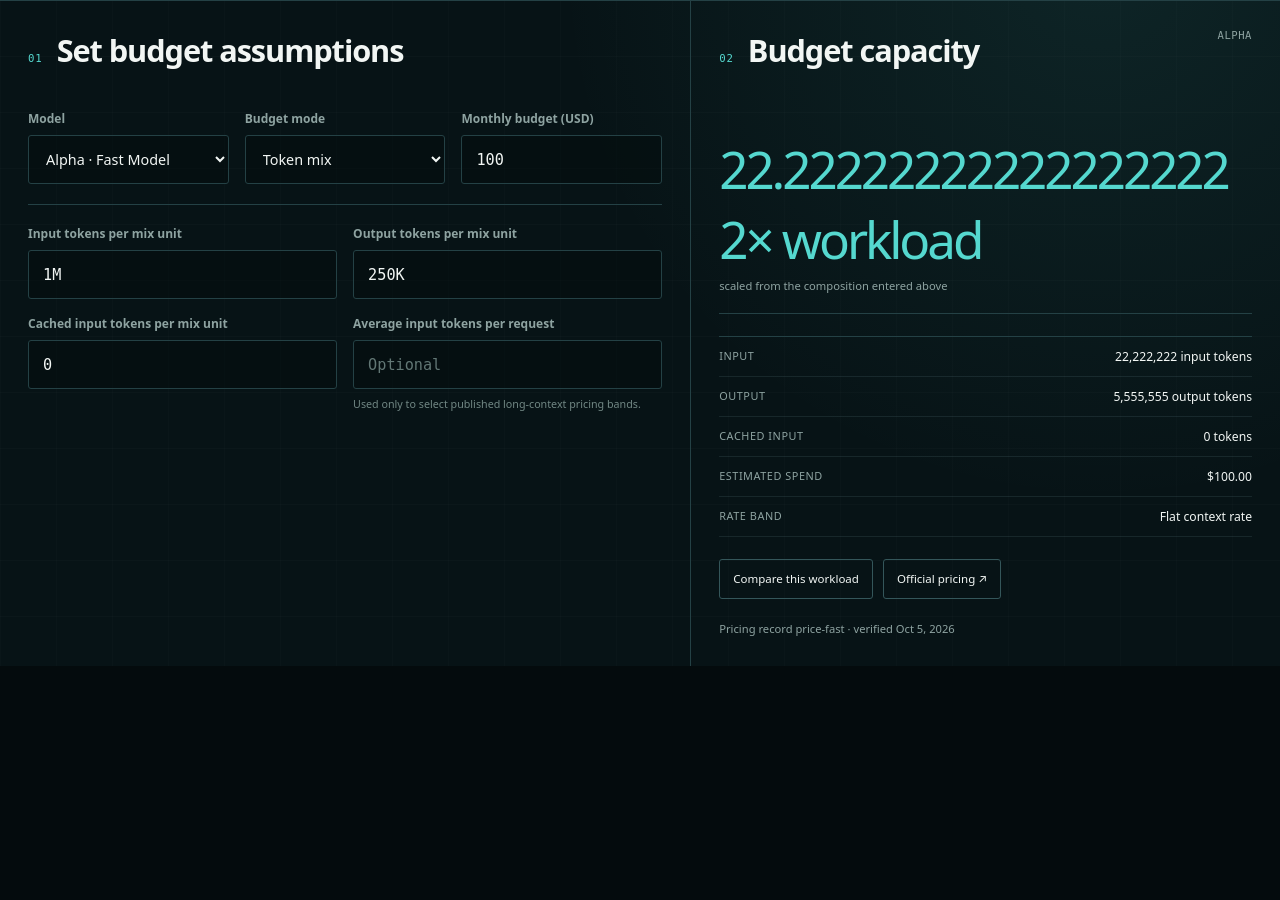
it: BudgetCalculator › floors request capacity to whole requests
The image size is (1280, 900).
Step 1. Select "Requests" in the dropdown labelled "Budget mode" → x=345, y=160, box [245,135,445,184]
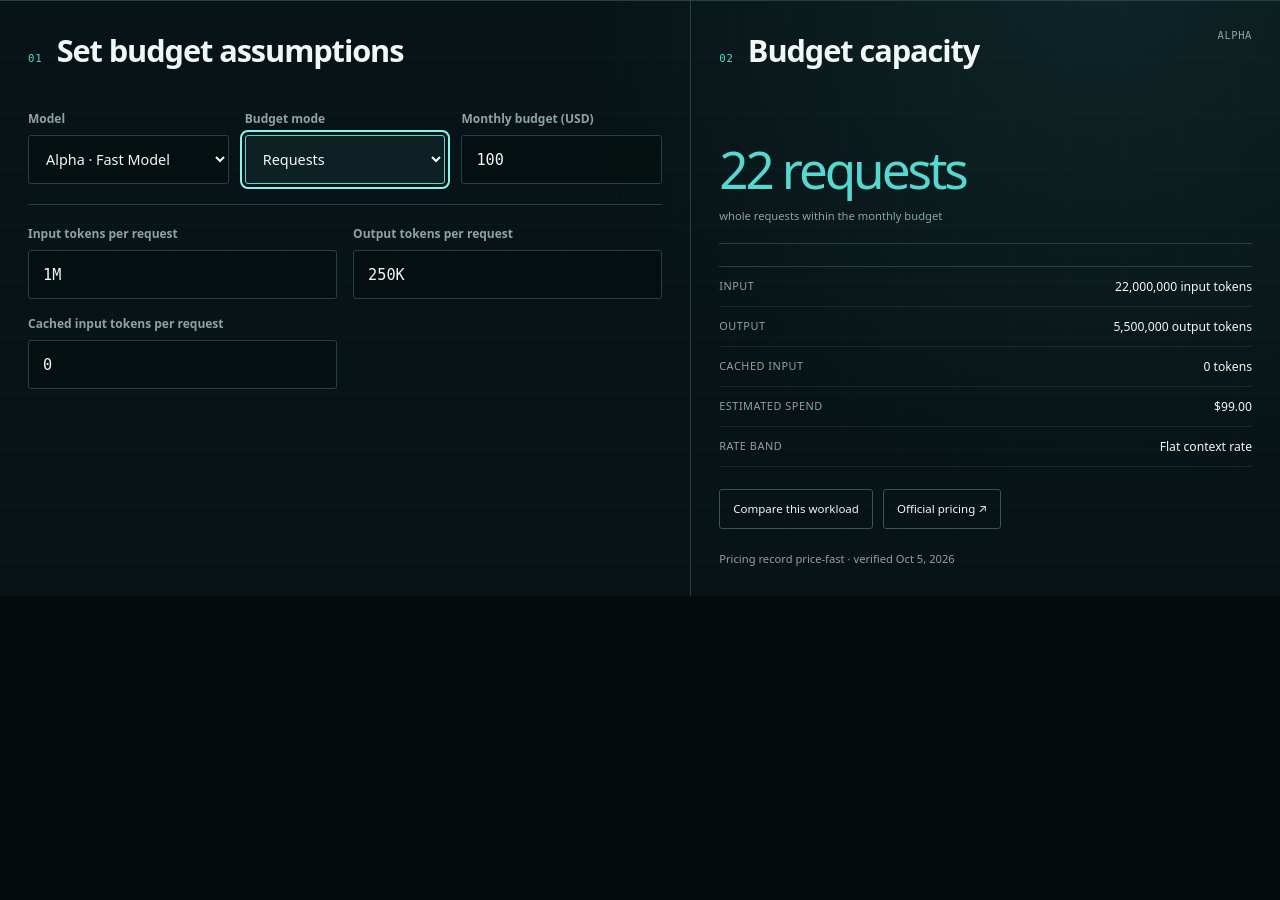
Step 2. Replace the text in the field labelled "Monthly budget (USD)" with "10.9" → x=562, y=160, box [462,135,662,184]
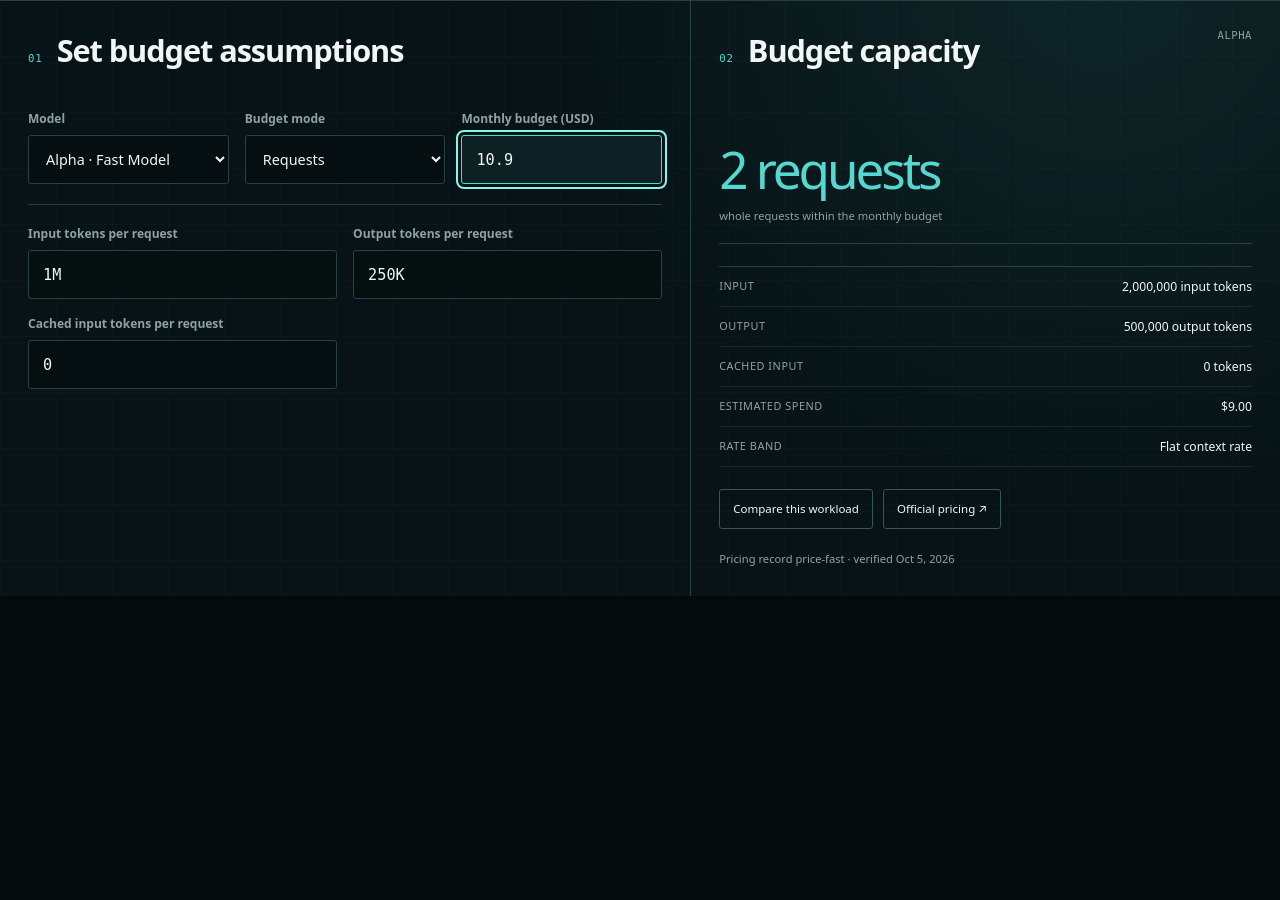
Step 3. Replace the text in the field labelled "Input tokens per request" with "500K" → x=183, y=274, box [28,250,337,299]
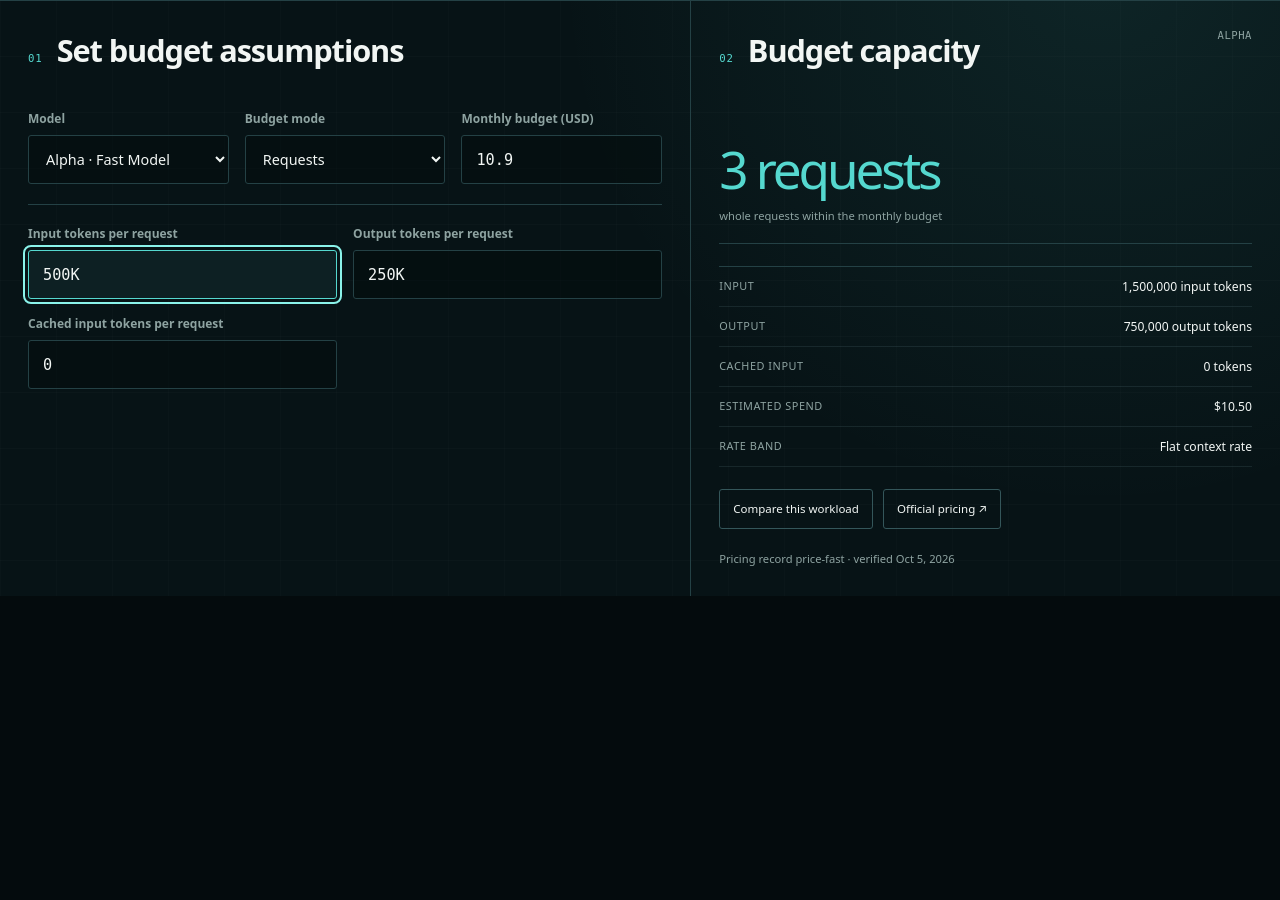
Step 4. Replace the text in the field labelled "Output tokens per request" with "500K" → x=508, y=274, box [353,250,662,299]
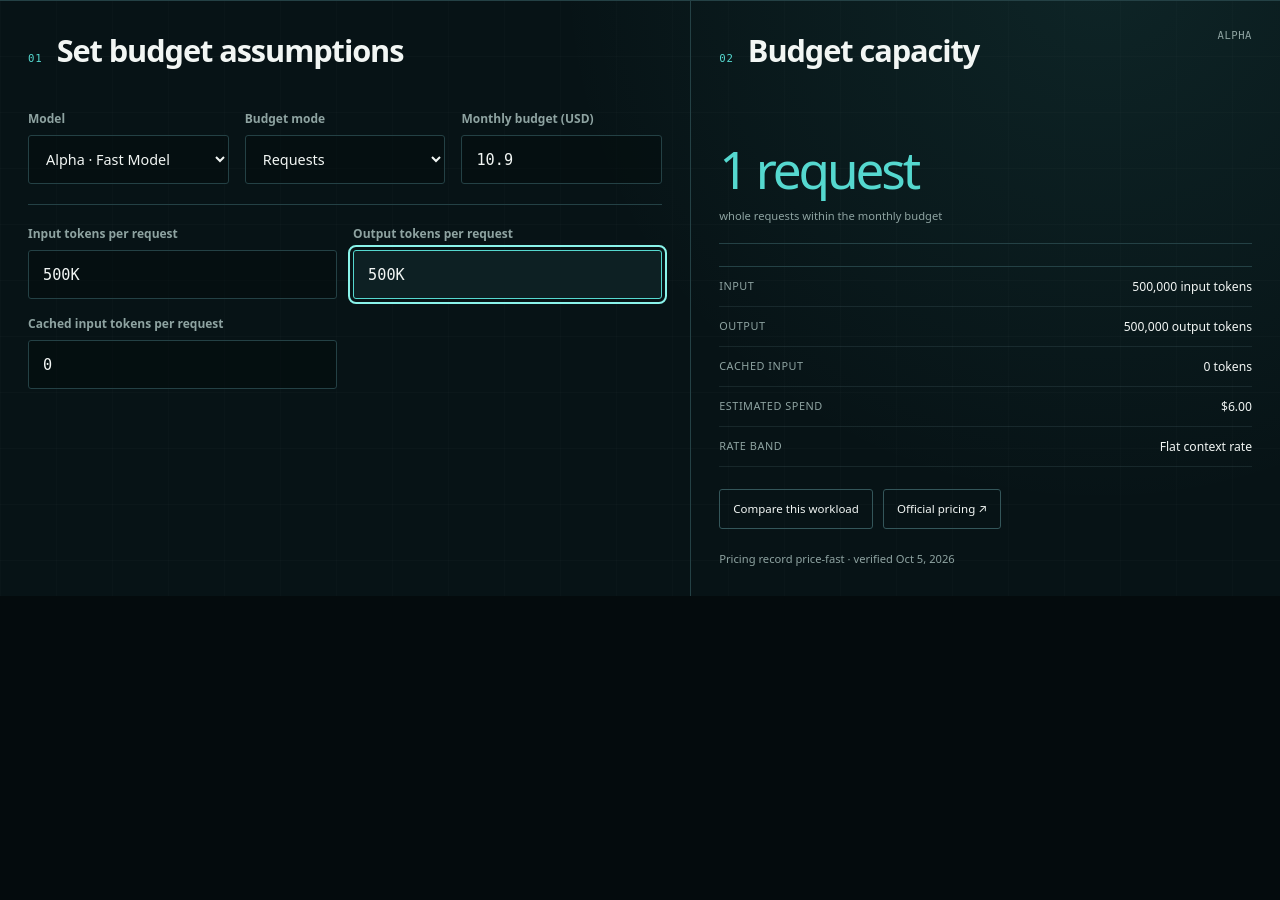
Now the text "1 request" is shown, box [719,134,918,204]
